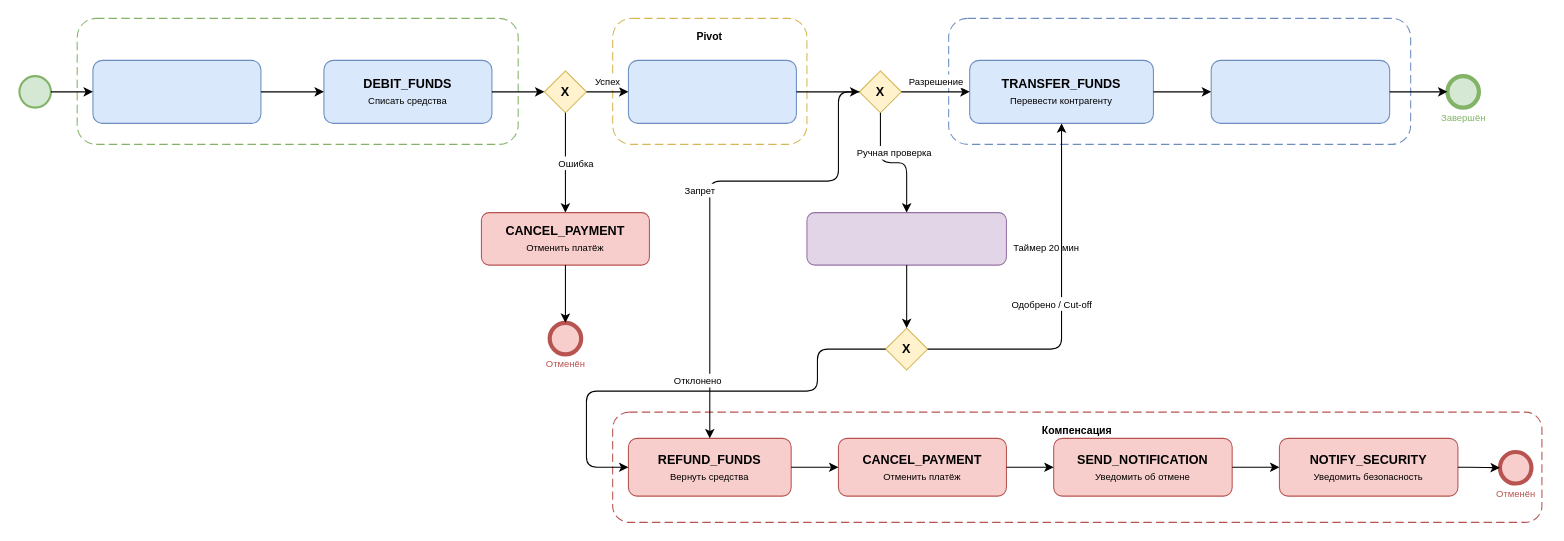
This 1564x541 diagram has some shape labels left out. Here are the shapes that lost their labels. From the top down, the box of each, then its label:
(92, 59, 261, 123): CREATE_PAYMENT Создать платёж
(76, 17, 518, 144): Компенсируемые шаги
(627, 59, 796, 123): FRAUD_CHECK Антифрод-проверка
(948, 17, 1411, 144): Повторяемые шаги
(1210, 59, 1390, 123): SEND_NOTIFICATION Уведомить клиента
(806, 212, 1006, 265): MANUAL_REVIEW Ожидание решения оператора
